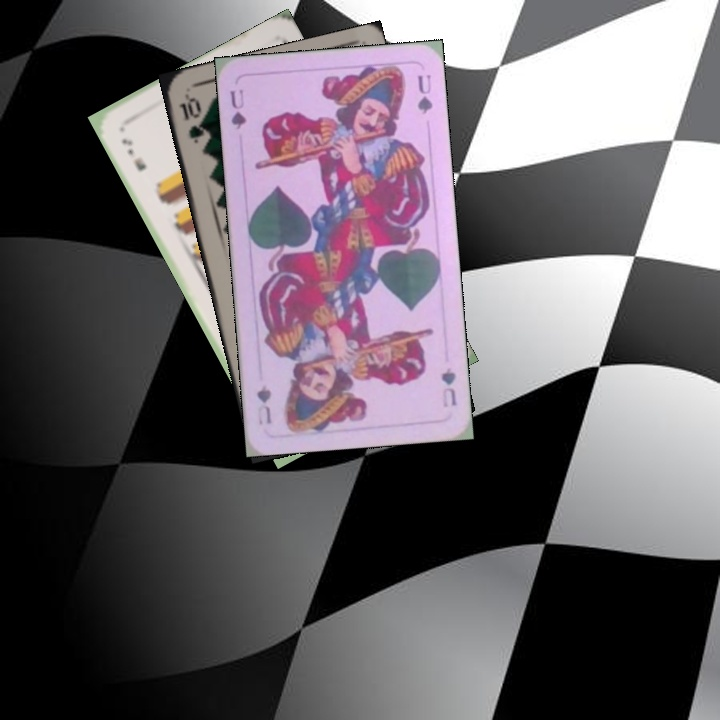E7: (117, 134, 149, 174)
G10: (175, 93, 207, 146)
GU: (226, 85, 249, 132), (437, 363, 459, 410)
